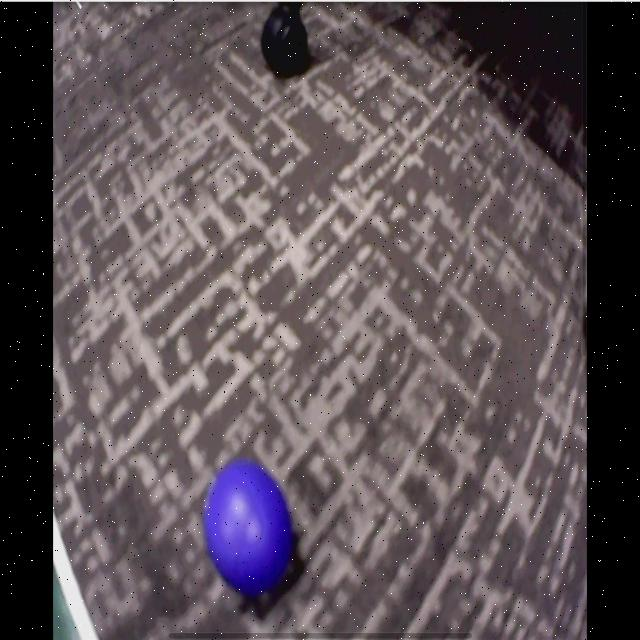ball: (205, 458, 295, 599)
